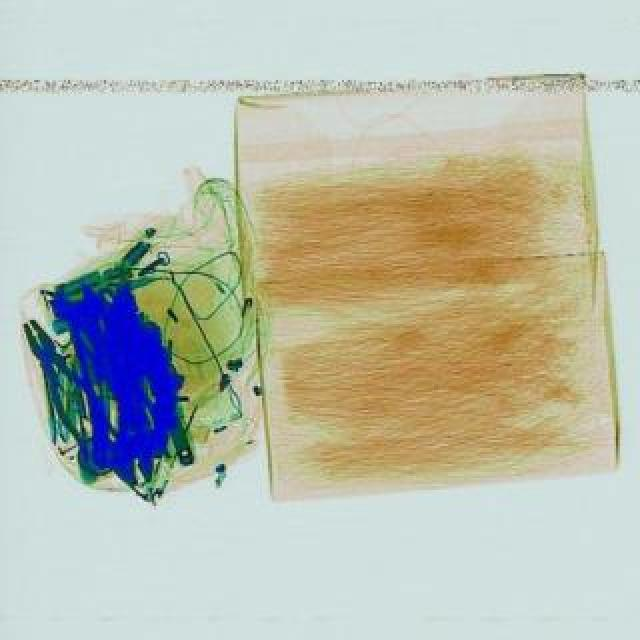scissors: (42, 276, 170, 448)
wrench: (4, 308, 128, 464)
